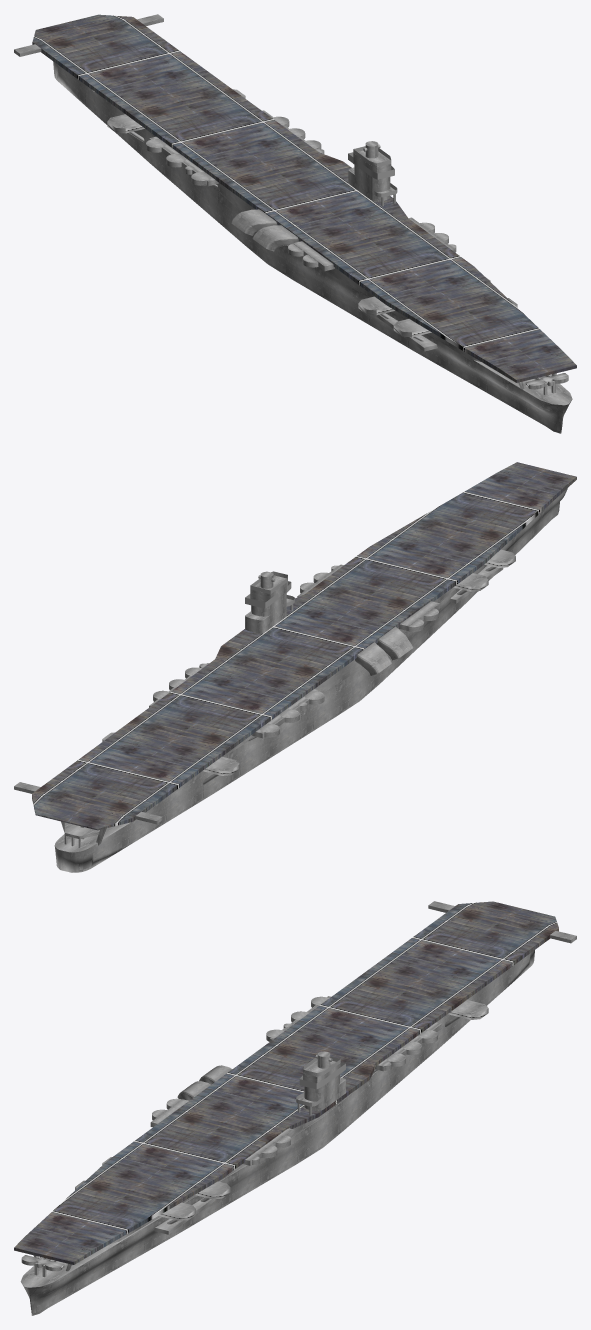
Rendered from Hiryu.fbx.
3 renders of one model, top to bottom at view 1: azimuth 30°, elevation 25°; view 2: azimuth 150°, elevation 25°; view 3: azimuth 330°, elevation 25°, orthographic.
Visible parts, largest first — view 1: pCube45; view 2: pCube45; view 3: pCube45.
Part boxes in pixels (box(x1,y1,x2,y2)): pCube45: box(14, 14, 576, 433); pCube45: box(14, 462, 576, 872); pCube45: box(14, 901, 576, 1315).
Size of the model in its own units: 3.84 by 2.48 by 22.7.
3 materials, 2 textured.
